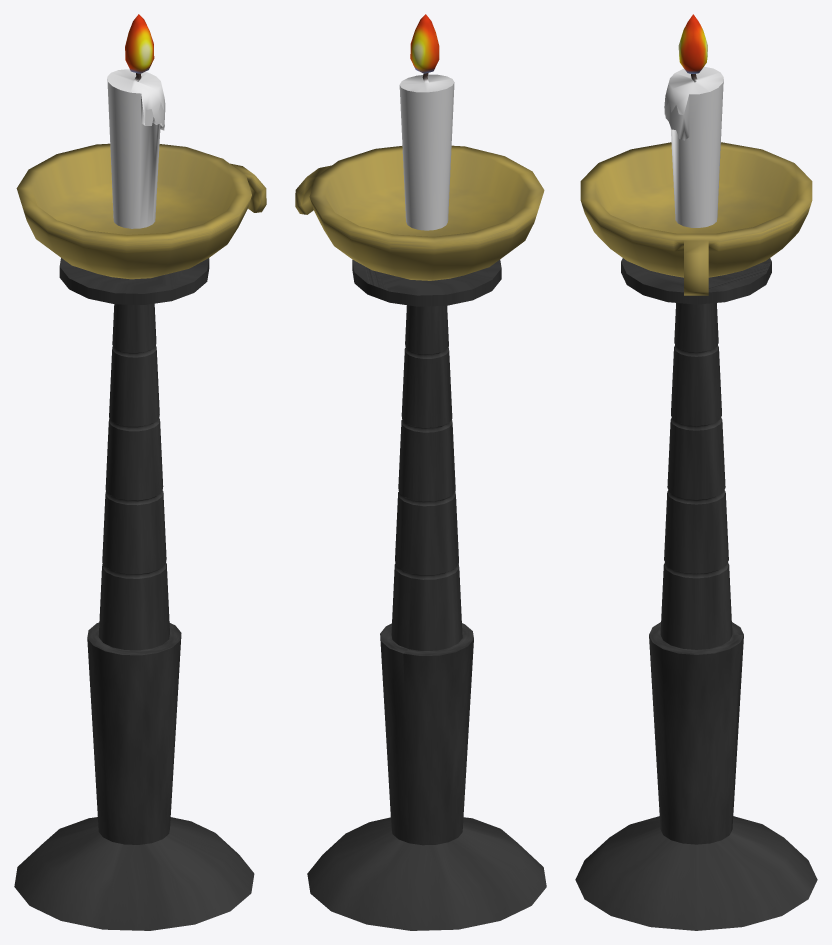
File: candlestickR.obj
3 renders of one model, left to right at view 1: azimuth 30°, elevation 25°; view 2: azimuth 150°, elevation 25°; view 3: azimuth 270°, elevation 25°, orthographic.
Parts seen in each view (by area): view 1: 円柱; view 2: 円柱; view 3: 円柱.
Boxes of the visible parts, x1=… form: 円柱: x1=14, y1=14, x2=266, y2=930; 円柱: x1=295, y1=14, x2=546, y2=930; 円柱: x1=575, y1=14, x2=817, y2=930.
Bounding box in the file's own units: 1.03 × 3.69 × 0.9336.
4 materials, 4 textured.
